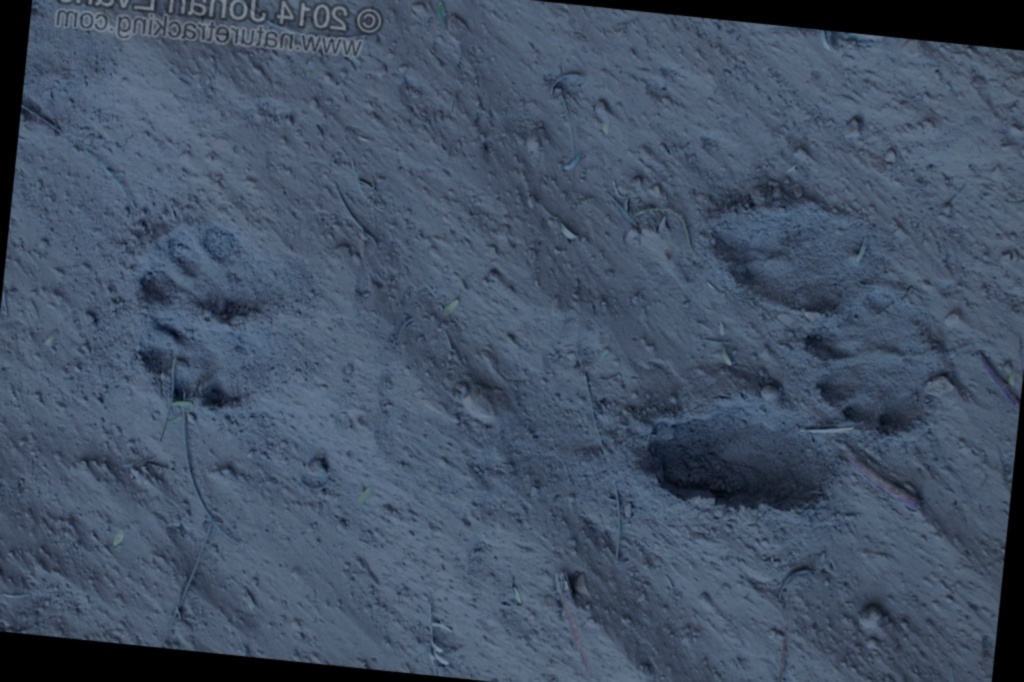lapin: (118, 199, 307, 443), (788, 268, 973, 452)
